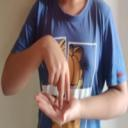hand: (41, 34, 69, 110), (34, 90, 80, 126)
